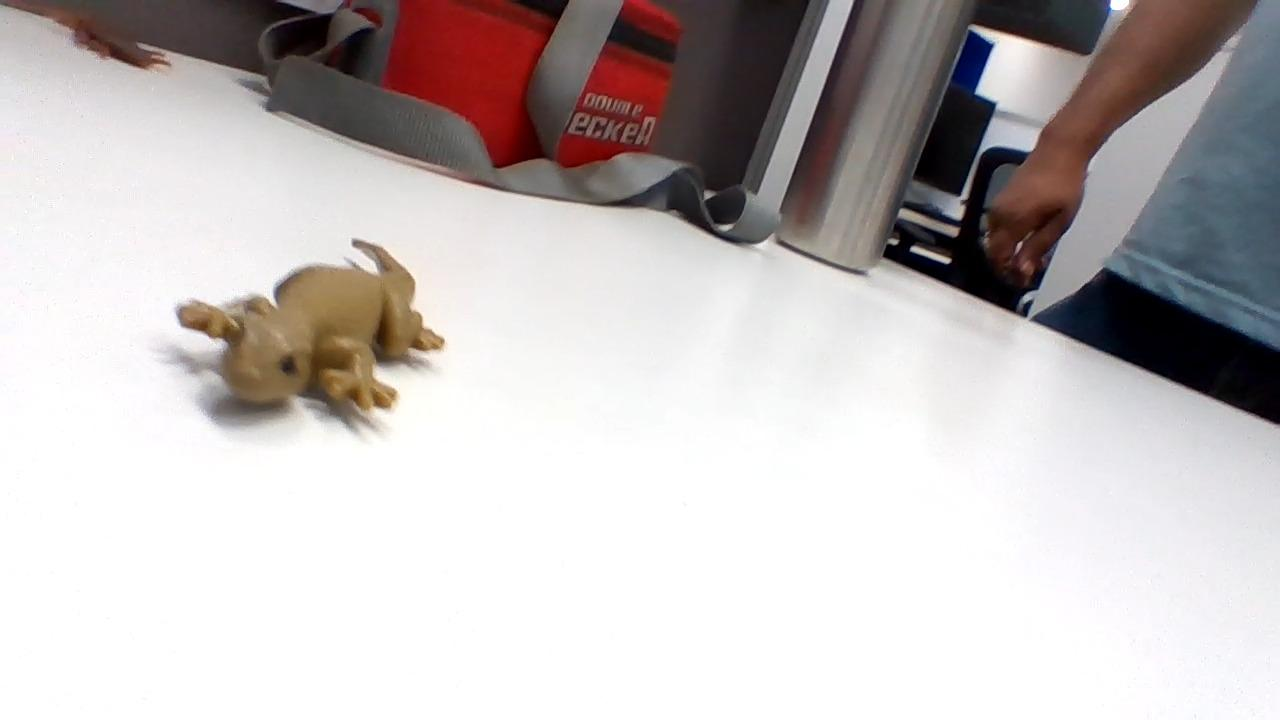lizard: (163, 237, 446, 423)
